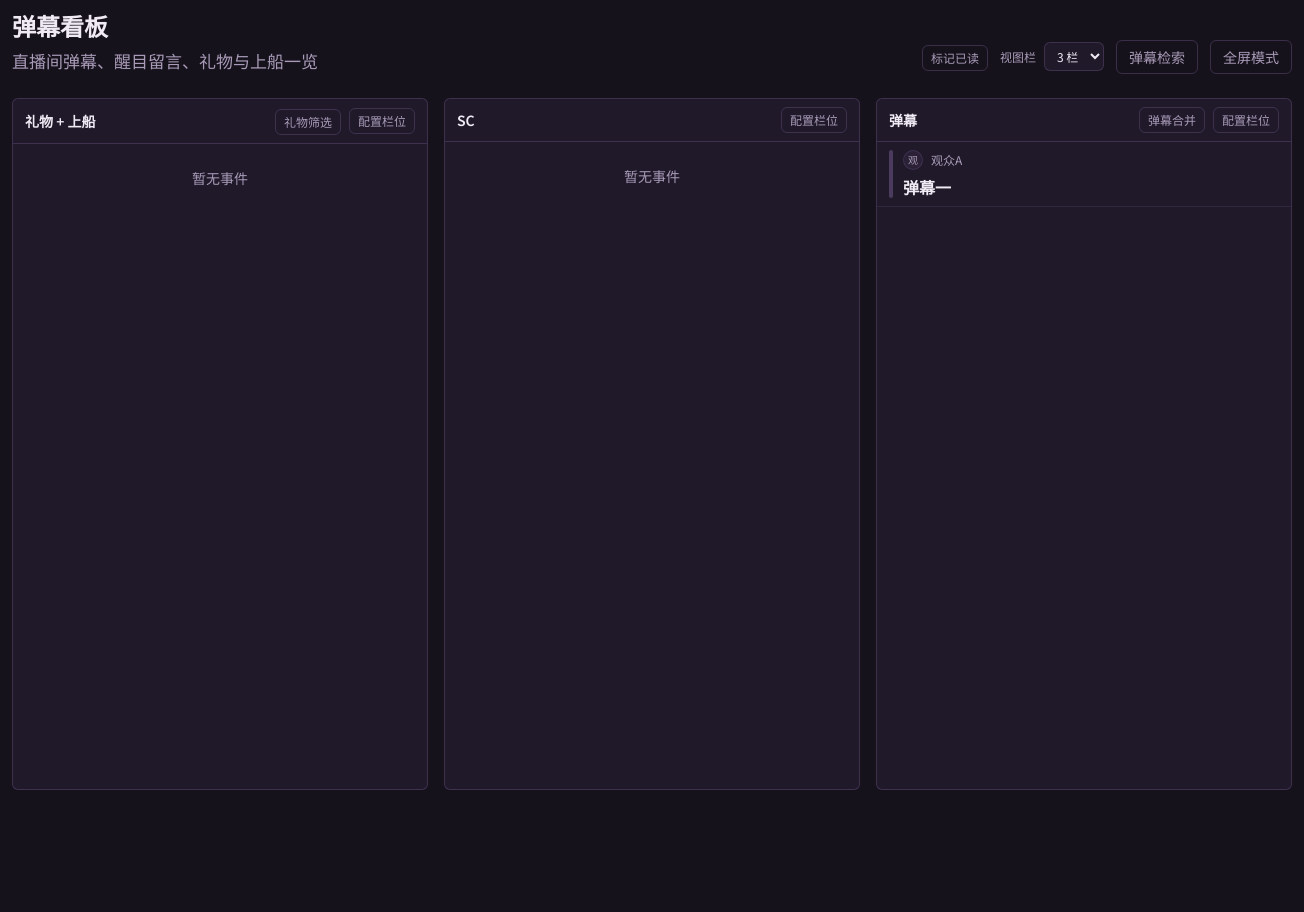
DanmakuPage 视图栏选择器 › wide 选择 2 栏后切换为 2 栏预设并持久化
expect the text "弹幕一" is shown: met, box left=903, top=174, right=951, bottom=198
Select "2 栏" in the dropdown labelled "视图栏". click: (1074, 56)
box: left=1044, top=42, right=1104, bottom=71
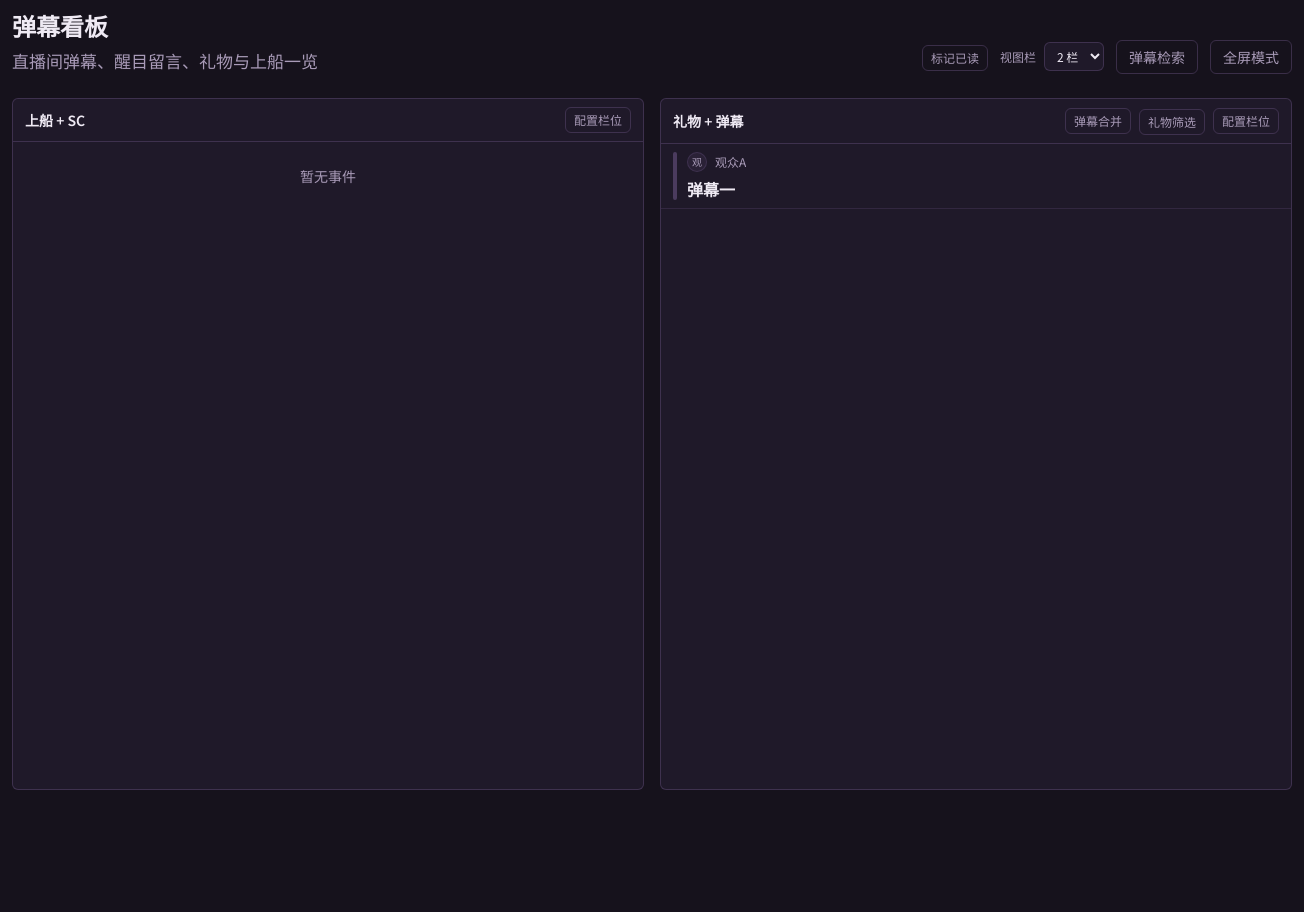
expect the heading "上船 + SC" is shown: met, box left=25, top=110, right=85, bottom=130
